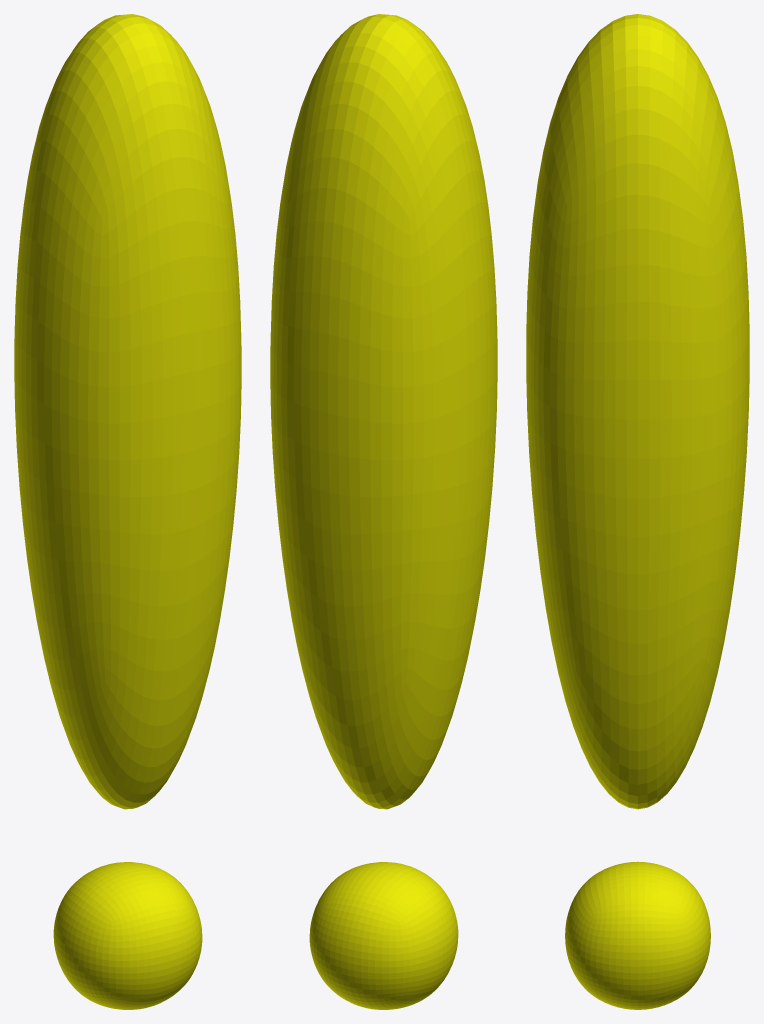
The model's file is Point_dexclamation.fbx.
The picture shows the model from 3 angles, left to right: view 1: azimuth 30°, elevation 25°; view 2: azimuth 150°, elevation 25°; view 3: azimuth 270°, elevation 25°; orthographic projection.
Visible parts, largest first — view 1: Cube; view 2: Cube; view 3: Cube.
Boxes of the visible parts, x1,y1,x2,y2 form: Cube: [14, 14, 241, 1009]; Cube: [270, 14, 497, 1009]; Cube: [526, 14, 749, 1009].
Size of the model in its own units: 257 by 1249 by 257.
